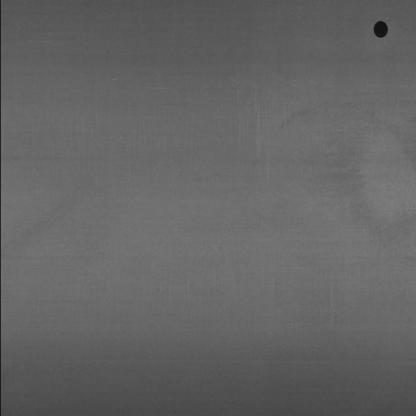punching_hole: (368, 18, 391, 39)
